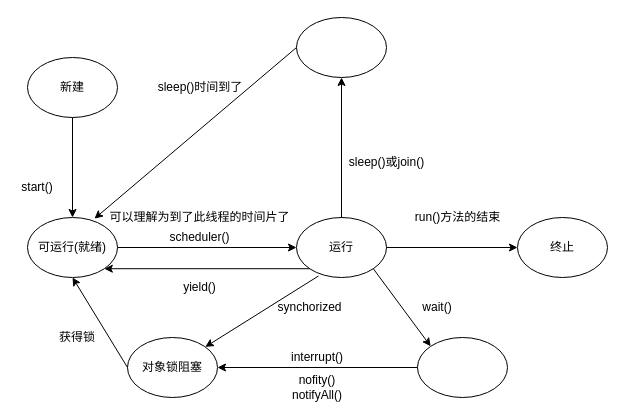
The diagram is 625 pixels wide and 419 high, and some of its shapes have lost their labels. Each missing label, with the box of its shape:
其他阻塞: (296, 16, 386, 78)
等待阻塞: (416, 336, 508, 398)
